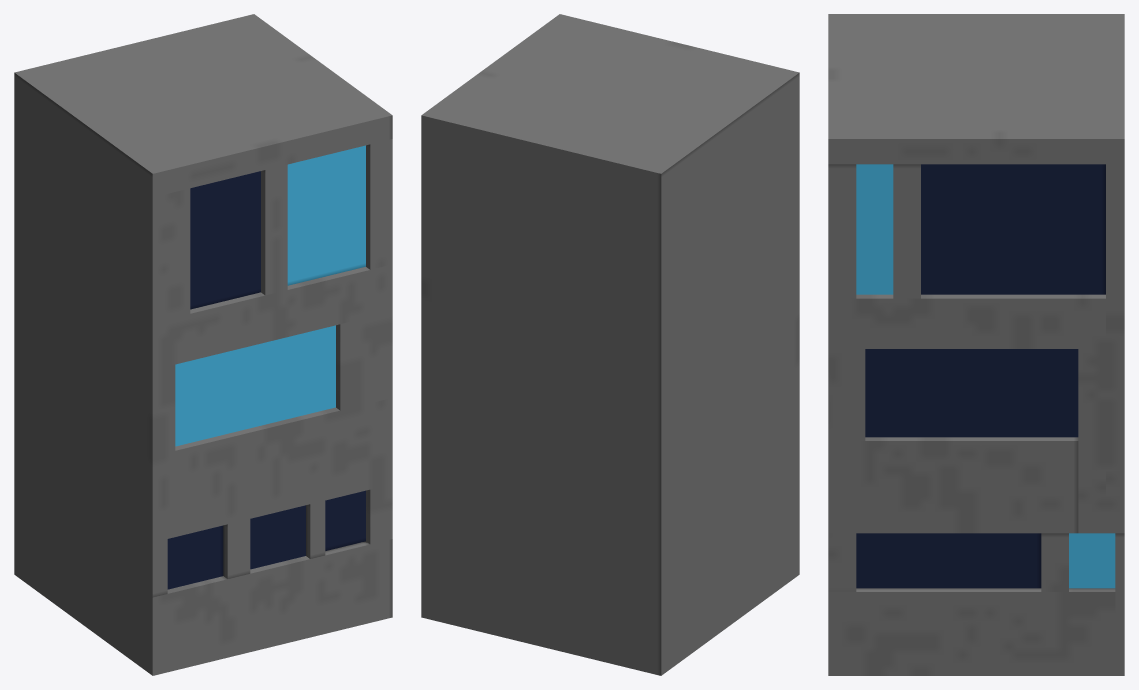
File: PARTER_TYL_BOK_1.dae
3 renders of one model, left to right at view 1: azimuth 30°, elevation 25°; view 2: azimuth 150°, elevation 25°; view 3: azimuth 270°, elevation 25°, orthographic. The views are drawn at different scales.
Parts seen in each view (by area): view 1: Content; view 2: Content; view 3: Content.
Part boxes in pixels (left/top/right/bottom): Content: left=14, top=14, right=392, bottom=675; Content: left=421, top=14, right=799, bottom=675; Content: left=828, top=14, right=1124, bottom=675.
Size of the model in its own units: 32 by 64 by 32.
1 material, 1 textured.
